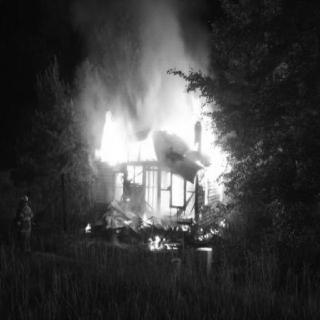Fire: (86, 78, 234, 254)
